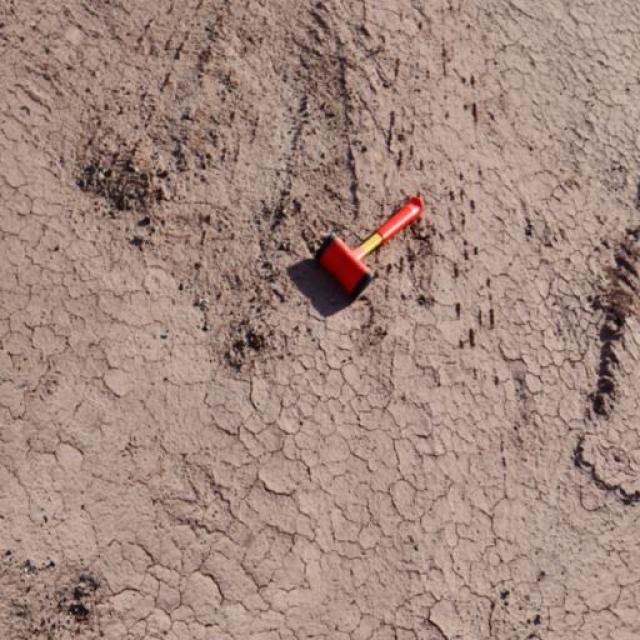mallet: (312, 192, 423, 296)
